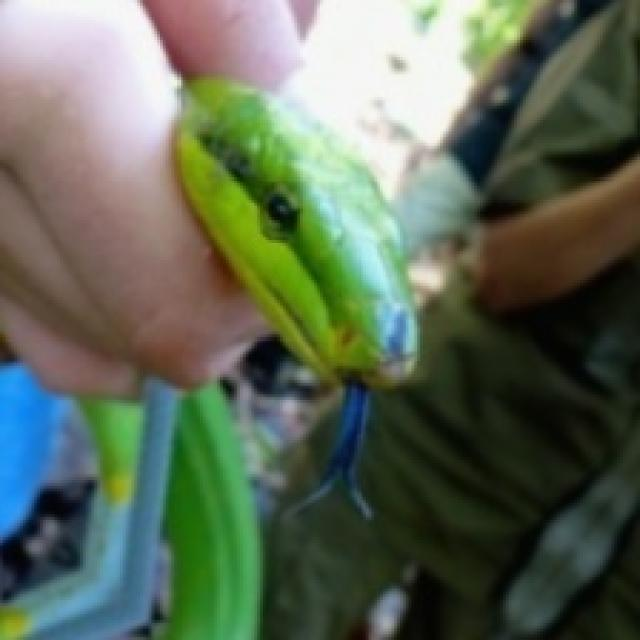red-tailed green ratsnake: (174, 77, 414, 383)
